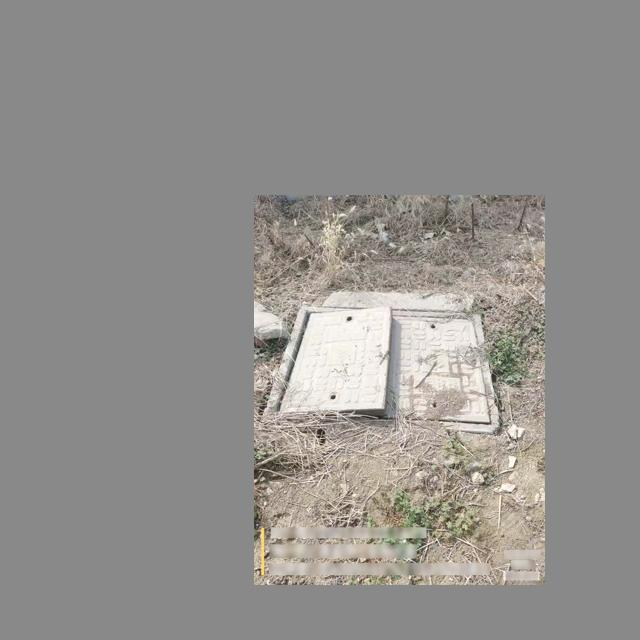uncovered: (259, 304, 499, 432)
